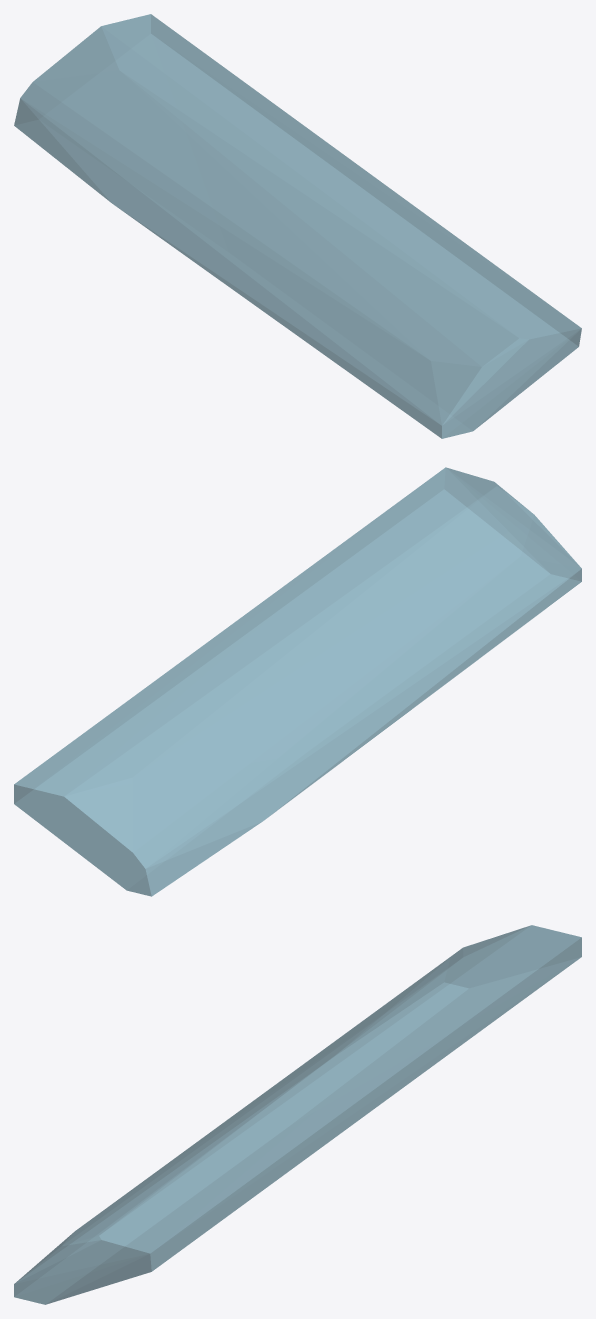
3 views of the same model, one above another, from view 1: azimuth 30°, elevation 25°; view 2: azimuth 150°, elevation 25°; view 3: azimuth 330°, elevation 25° (orthographic).
Parts seen in each view (by area): view 1: Shape_IndexedFaceSet.052_Shape_IndexedFaceSet.10455; view 2: Shape_IndexedFaceSet.052_Shape_IndexedFaceSet.10455; view 3: Shape_IndexedFaceSet.052_Shape_IndexedFaceSet.10455.
Boxes of the visible parts, <box> form: Shape_IndexedFaceSet.052_Shape_IndexedFaceSet.10455: <box>14,14,581,438</box>; Shape_IndexedFaceSet.052_Shape_IndexedFaceSet.10455: <box>14,467,581,896</box>; Shape_IndexedFaceSet.052_Shape_IndexedFaceSet.10455: <box>14,925,581,1304</box>.
Size of the model in its own units: 0.1178 by 0.0614 by 0.6094.
